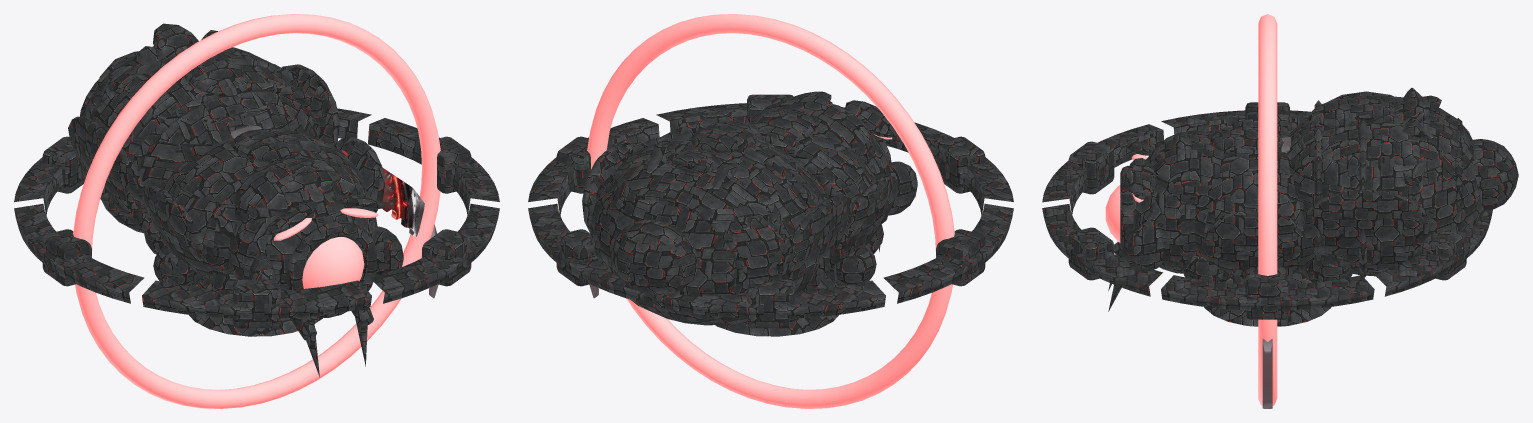
Rendered from vorax-M8cmlFKE.glb.
3 views of the same model, side by side, from view 1: azimuth 30°, elevation 25°; view 2: azimuth 150°, elevation 25°; view 3: azimuth 270°, elevation 25° (orthographic). The views are drawn at different scales.
Parts seen in each view (by area): view 1: hull, ringShell, ringGlow, core, blade; view 2: hull, ringShell, ringGlow; view 3: hull, ringShell, ringGlow, core, blade.
Boxes of the visible parts, box(x1,y1,x2,y2) form: hull: box(68, 23, 403, 377); ringShell: box(14, 108, 499, 328); ringGlow: box(73, 14, 440, 408); core: box(274, 208, 378, 288); blade: box(341, 150, 438, 298); hull: box(582, 91, 917, 336); ringShell: box(528, 94, 1013, 328); ringGlow: box(587, 14, 954, 408); hull: box(1108, 88, 1518, 326); ringShell: box(1042, 102, 1492, 319); ringGlow: box(1258, 14, 1277, 405); core: box(1105, 154, 1146, 242); blade: box(1262, 339, 1272, 408).
Bounding box in the file's own units: 7.1 × 6.2 × 7.5.
4 materials, 3 textured.
